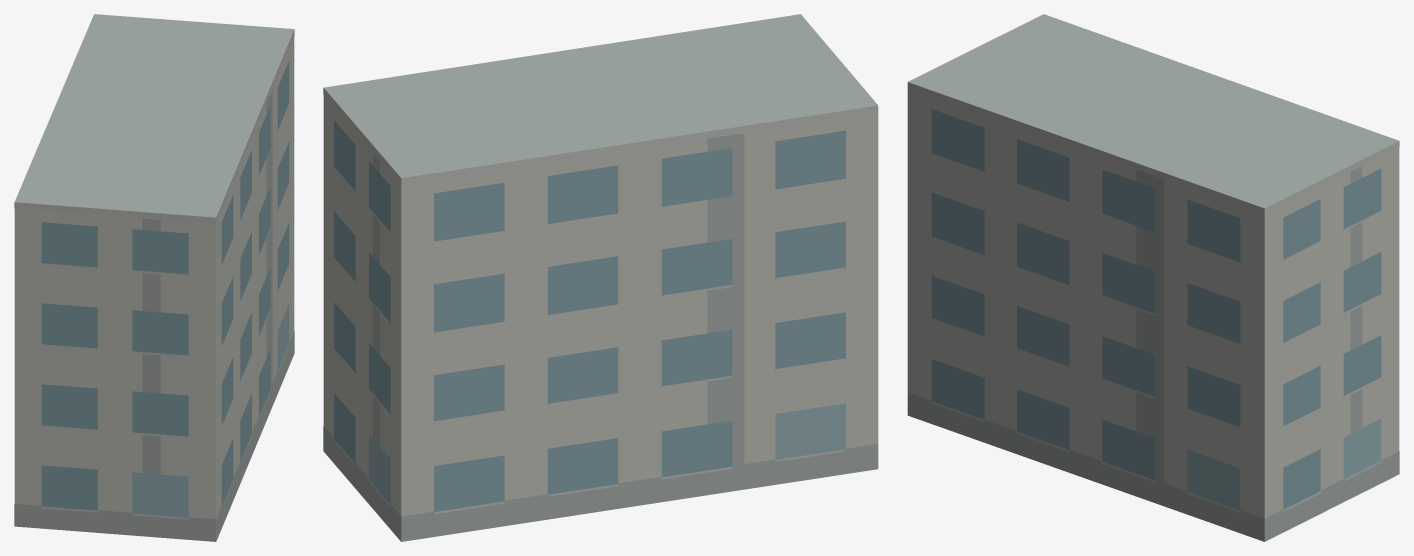
Rendered from survey-upis-33000288.glb.
3 renders of one model, left to right at view 1: azimuth 30°, elevation 25°; view 2: azimuth 150°, elevation 25°; view 3: azimuth 270°, elevation 25°, orthographic. The views are drawn at different scales.
Visible parts, largest first — view 1: survey-upis-33000288.tmp; view 2: survey-upis-33000288.tmp; view 3: survey-upis-33000288.tmp.
Boxes of the visible parts, x1,y1,x2,y2 form: survey-upis-33000288.tmp: (14, 14, 294, 541); survey-upis-33000288.tmp: (323, 14, 878, 541); survey-upis-33000288.tmp: (907, 14, 1399, 541).
Size of the model in its own units: 15.26 by 12.2 by 16.31.
